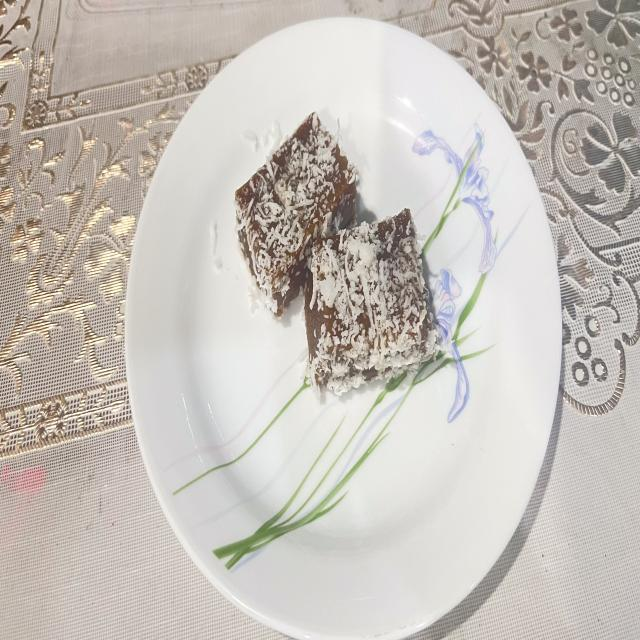kaswi: (305, 209, 439, 393), (235, 113, 356, 316)
